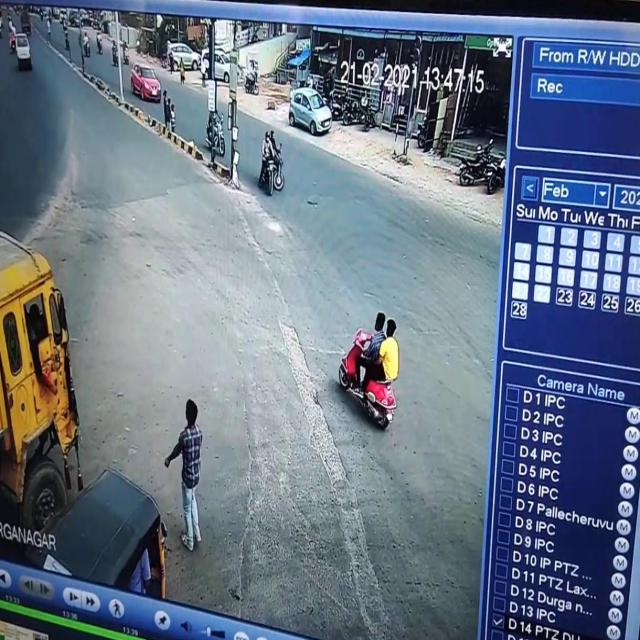accident: (254, 106, 289, 208)
